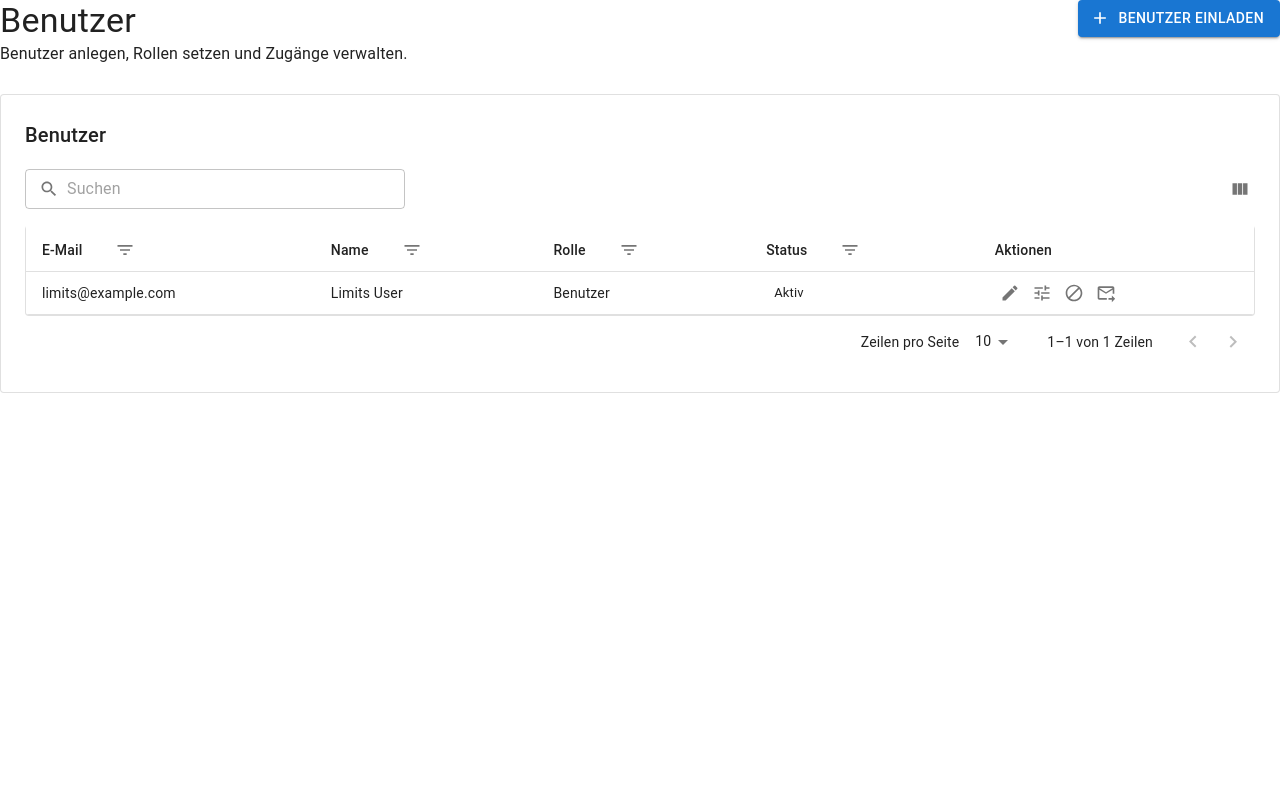
Scenario: loads a user's stored limits + usage into the dialog on open
Step 1. Click the button named "Limits" → x=1042, y=293, box [1027,278,1057,308]
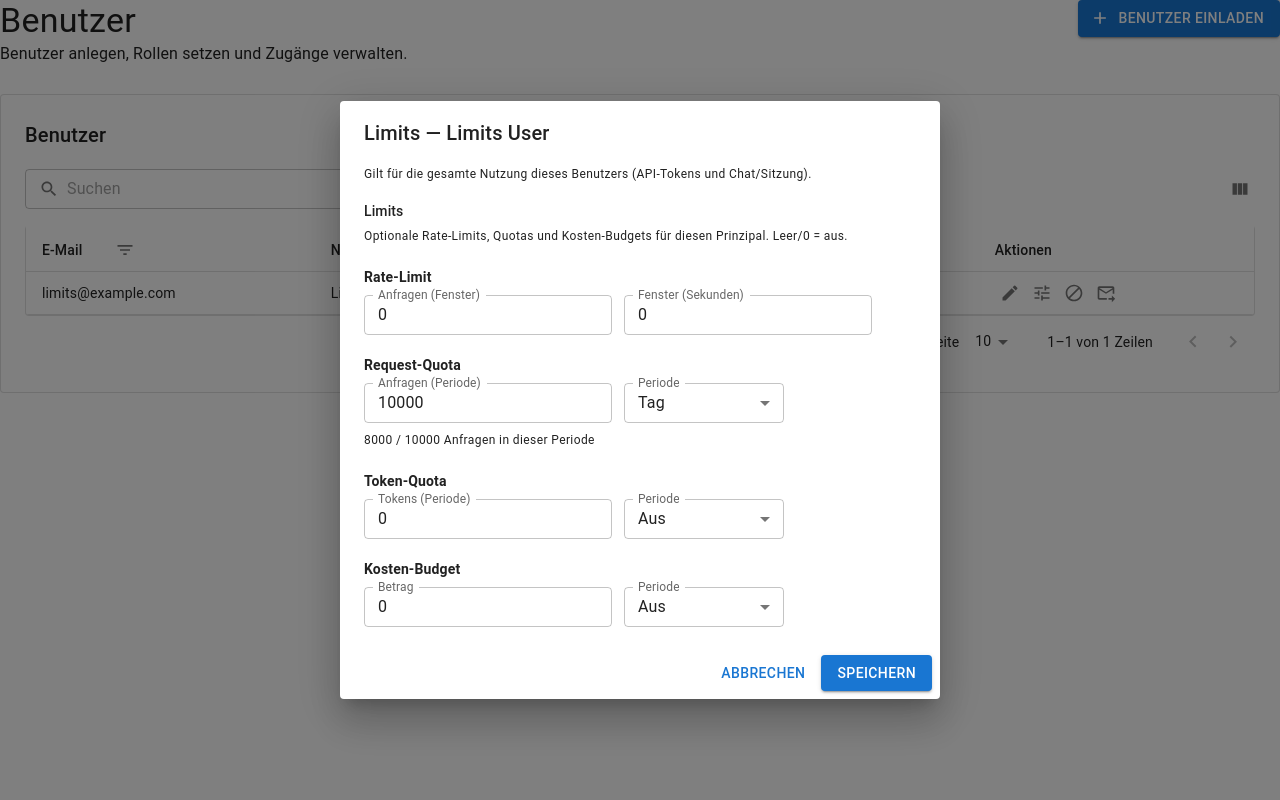
expect the number field labelled "Anfragen (Periode)" holds "10000": met, box [364,383,612,423]
